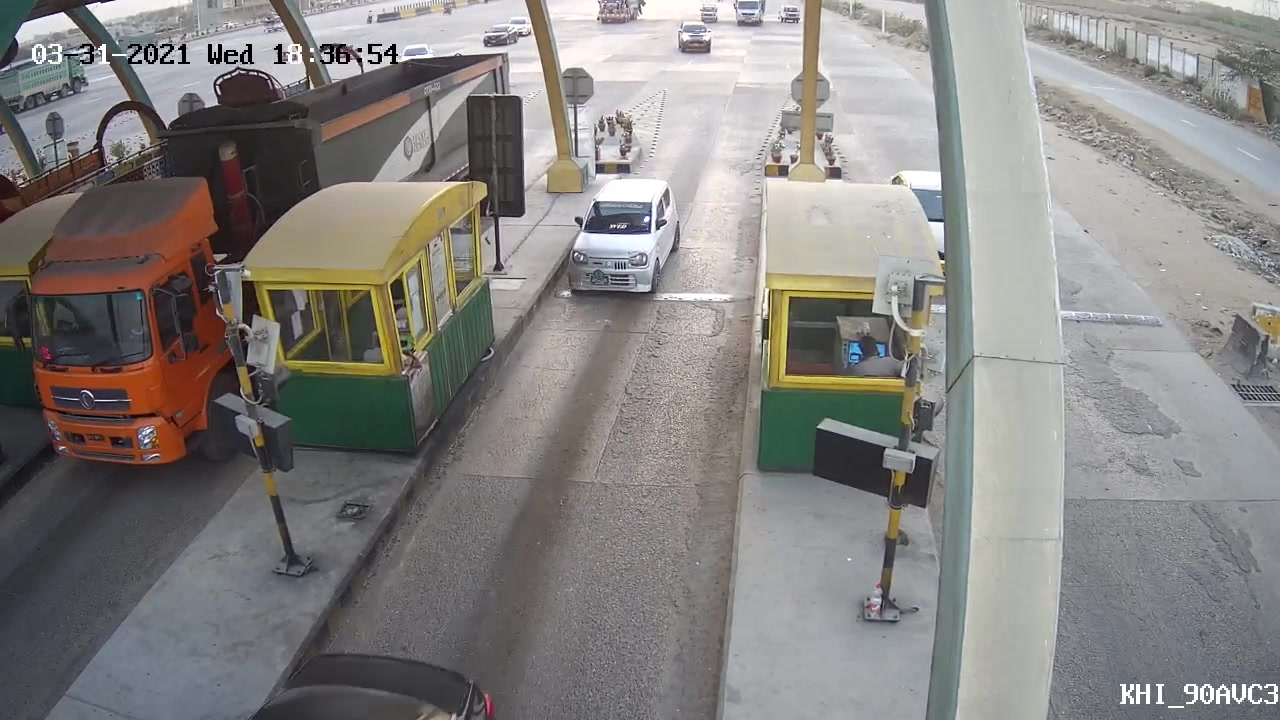F1: (554, 174, 690, 305)
